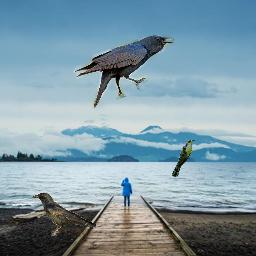Crow: (73, 35, 174, 108), (31, 192, 97, 236)
Cuckoo: (172, 140, 195, 177)
